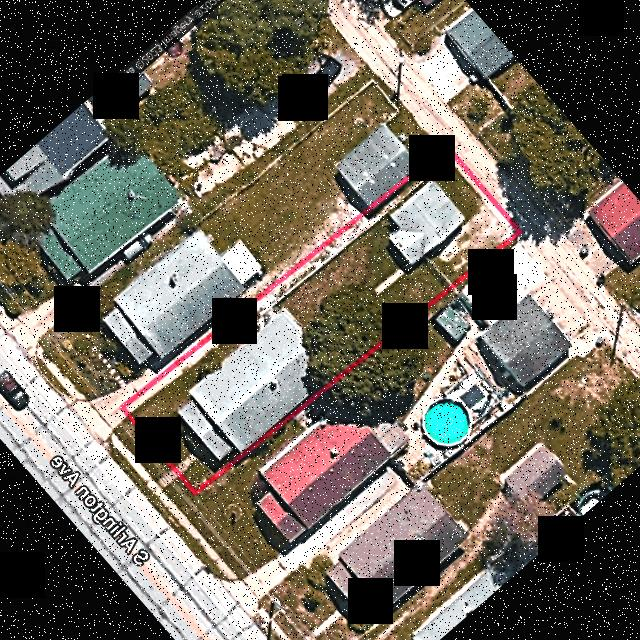Driveway: (125, 169, 429, 414), (308, 268, 403, 346), (173, 447, 201, 473)
Extra Driveway: (442, 150, 488, 203), (91, 408, 126, 443)
Extra Lawn: (108, 439, 171, 520), (112, 416, 168, 482), (162, 476, 193, 508)
Extra Sidewalk: (107, 431, 179, 515), (155, 467, 176, 489)
House: (175, 309, 313, 462)
Other: (389, 180, 463, 262), (437, 202, 512, 280)
